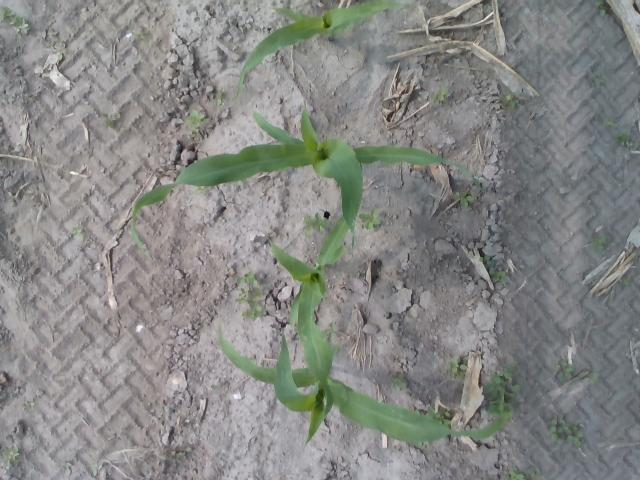Maize: (130, 100, 454, 267), (218, 336, 512, 445), (267, 213, 356, 425), (238, 0, 398, 100)
Weeds: (489, 368, 518, 409), (239, 274, 264, 314), (554, 418, 586, 445), (359, 208, 384, 229), (299, 214, 328, 232), (444, 358, 468, 376), (454, 188, 472, 206), (616, 130, 634, 148), (188, 109, 205, 128), (557, 360, 573, 380), (489, 266, 506, 284), (592, 229, 608, 247), (588, 70, 604, 88), (500, 94, 519, 109), (107, 112, 122, 128), (4, 6, 18, 23), (393, 374, 407, 390), (508, 466, 524, 480), (435, 88, 450, 102), (597, 0, 609, 17), (4, 447, 18, 461), (16, 20, 30, 34), (326, 322, 337, 339), (482, 253, 493, 267), (603, 118, 617, 128), (211, 95, 223, 106), (138, 32, 150, 40), (72, 225, 82, 234)
